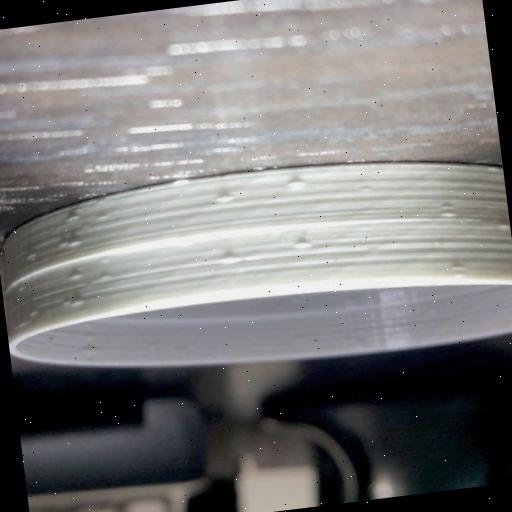blobs: (283, 174, 309, 196), (212, 190, 238, 210), (219, 248, 244, 268), (67, 267, 88, 288), (68, 290, 90, 310), (294, 234, 317, 252), (20, 250, 39, 268), (79, 342, 100, 358), (440, 202, 458, 220), (66, 236, 84, 253), (64, 211, 82, 228), (80, 328, 98, 344), (96, 269, 114, 284), (498, 216, 511, 233)
